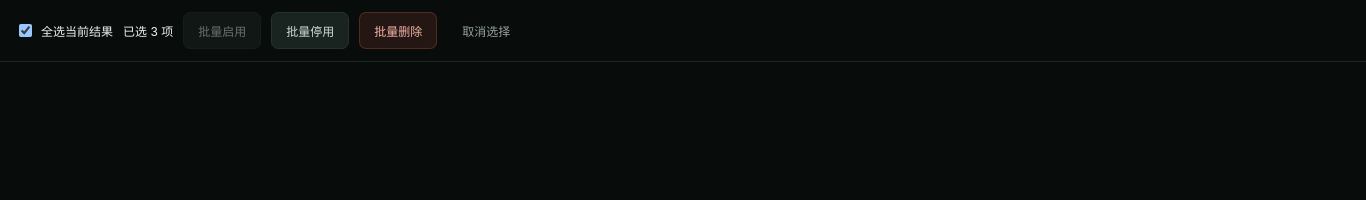
Scenario: 包批量操作 › 删除顺序满足智能插件、SourceMod、Metamod 的依赖
The width and height of the screenshot is (1366, 200).
Click the button "批量删除".
click(398, 30)  # box 359,12 -> 437,49
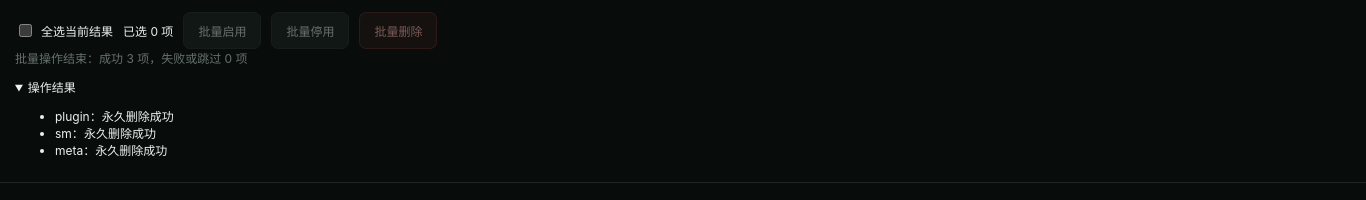
Expected: the text "批量操作结束：成功 3 项，失败或跳过 0 项" is shown, 15,51 -> 248,66
